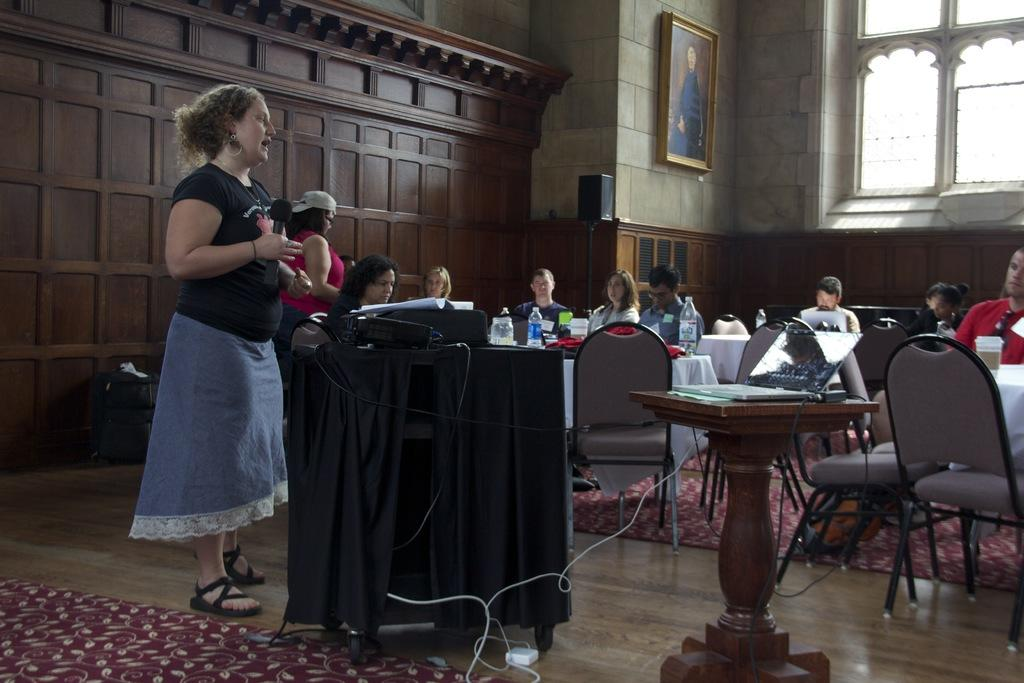Laptop: (671, 326, 863, 402)
Luggage-and-bags: (88, 360, 160, 464)
